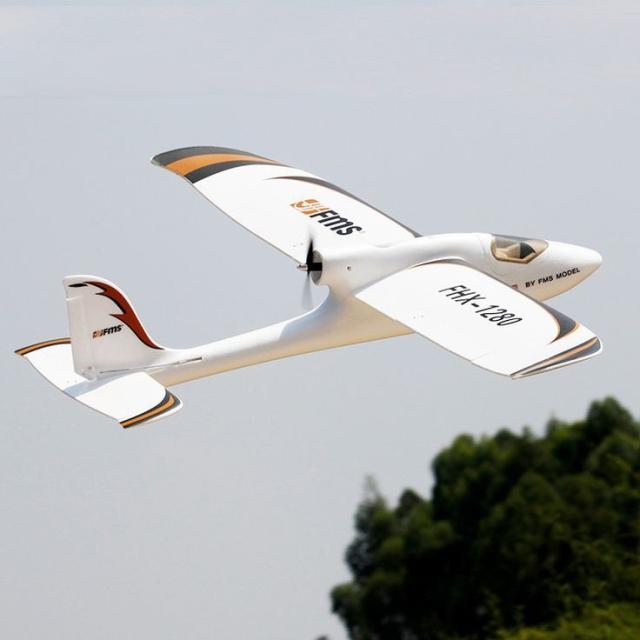iha: (12, 141, 607, 433)
